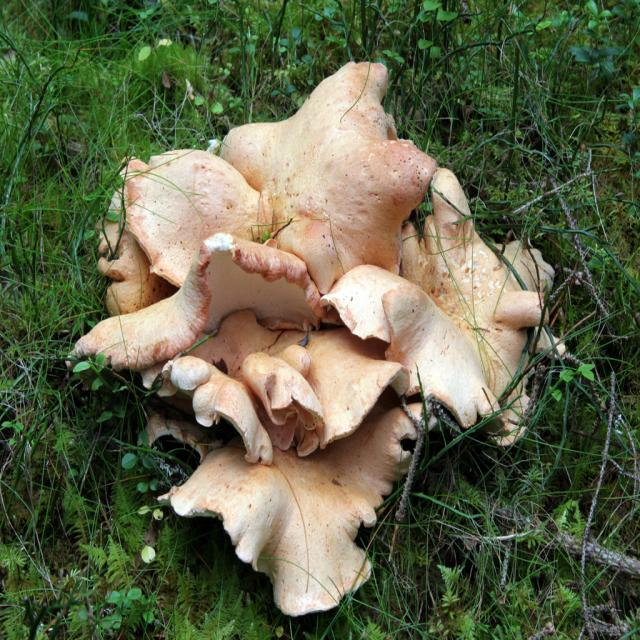Mushroom: (66, 61, 564, 613)
